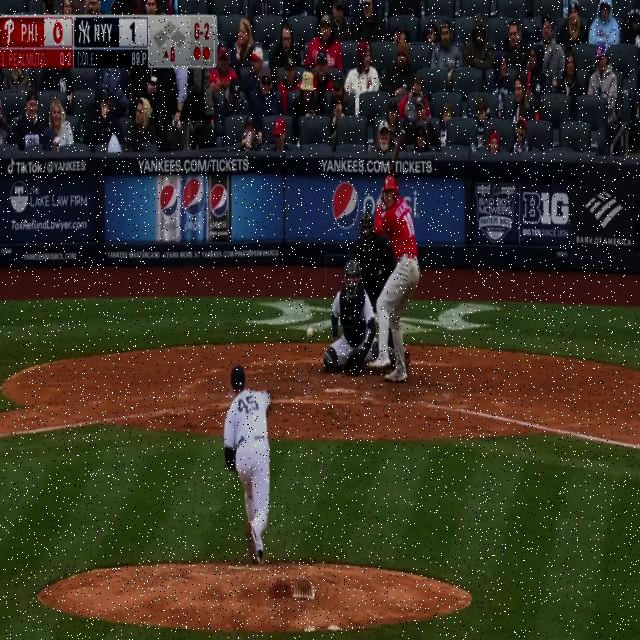baseball: (307, 327, 313, 338)
